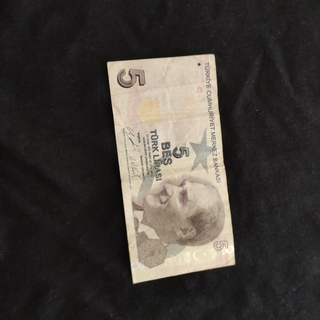5TLFront: (106, 53, 236, 284)
